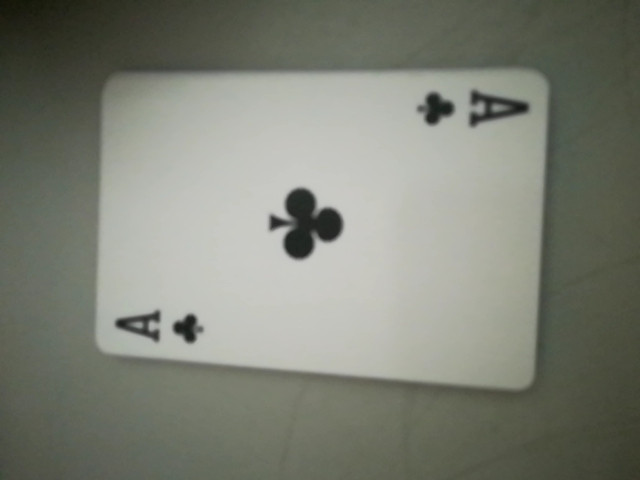mh a: (418, 80, 533, 139), (108, 297, 216, 354)
